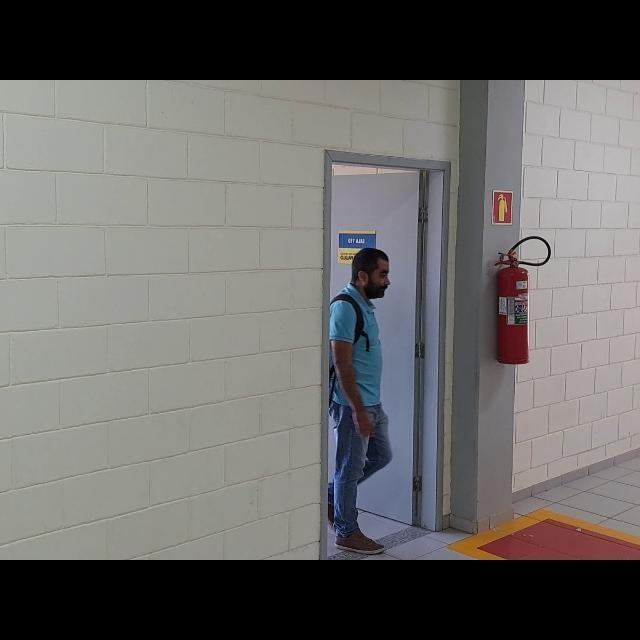door: (323, 149, 447, 534)
